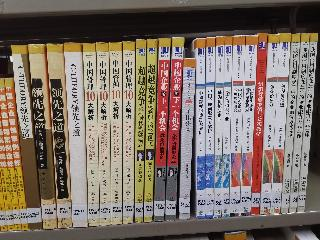book-spine: (11, 43, 43, 231), (27, 44, 58, 231), (46, 43, 72, 230), (64, 41, 87, 228), (268, 32, 291, 216), (4, 77, 31, 231), (279, 32, 301, 215), (296, 32, 318, 214), (287, 33, 309, 214), (260, 34, 281, 216), (165, 37, 185, 222), (226, 35, 246, 218), (239, 34, 259, 217), (0, 79, 23, 232), (152, 38, 170, 223), (106, 41, 124, 225), (140, 39, 158, 223), (251, 31, 268, 216), (83, 43, 100, 227), (94, 42, 111, 226), (178, 59, 197, 223), (121, 41, 137, 224), (211, 34, 226, 218), (202, 36, 216, 221), (135, 40, 148, 223), (221, 36, 233, 218), (196, 38, 206, 220)
